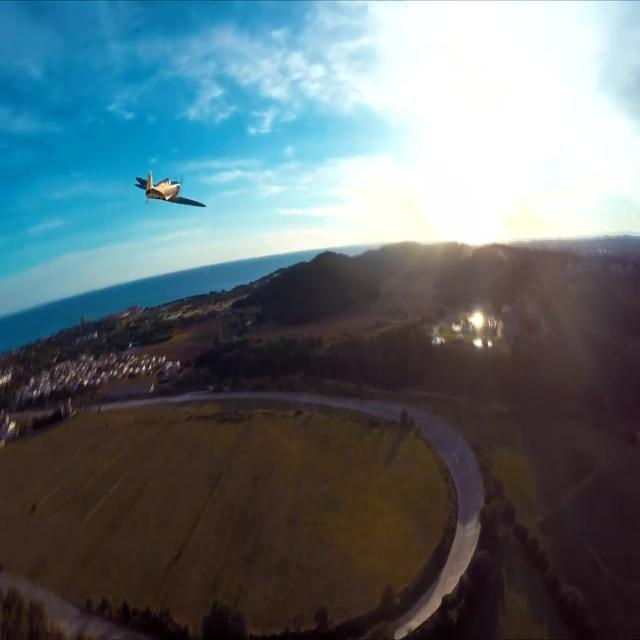iha: (169, 169, 171, 210)
